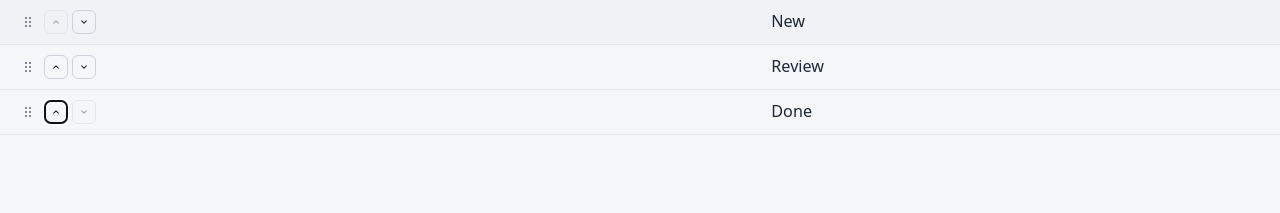
Scenario: a refused save › is cleared by the next successful save
Click the button named "Move Done up".
click(56, 112)  # box [44,100,68,124]
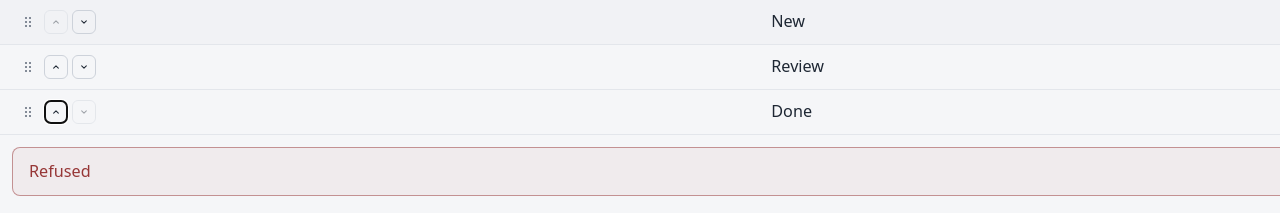
Click the button named "Move Done up".
click(56, 112)  # box [44,100,68,124]
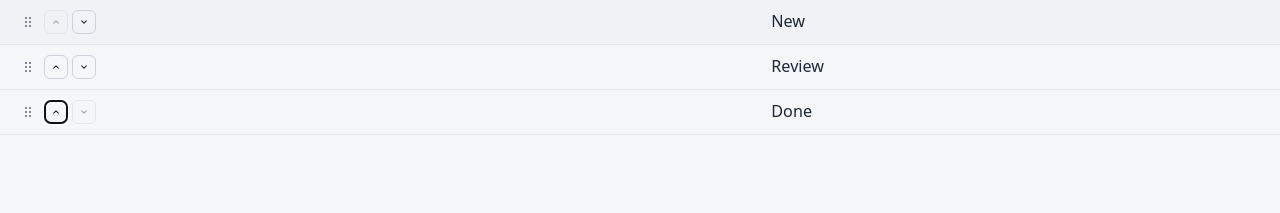
Expected: the message "Refused" is gone
